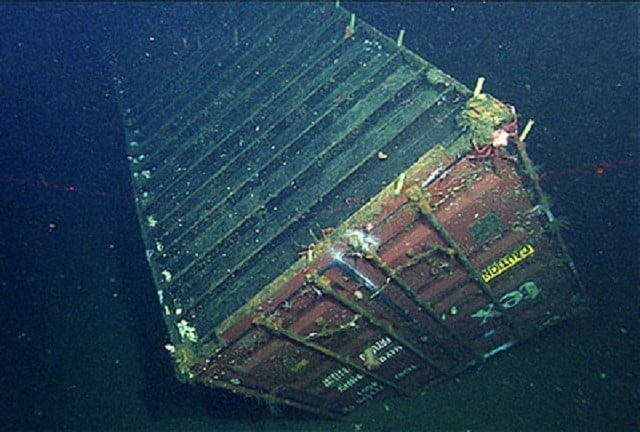Container: (102, 6, 595, 424)
